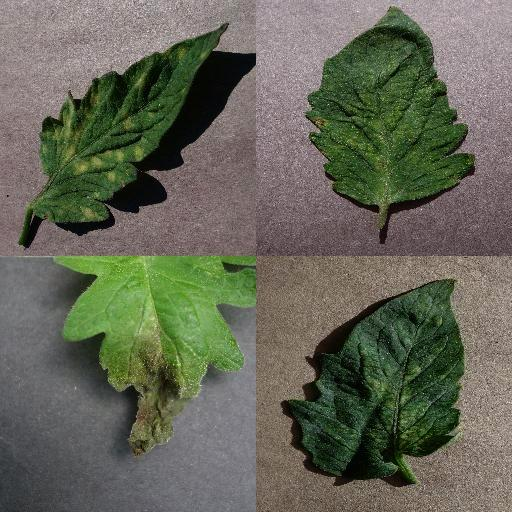Late Blight: (48, 256, 256, 458)
Leaf Mold: (37, 22, 227, 224)
Spider Mites: (287, 278, 465, 480), (306, 5, 476, 205)
